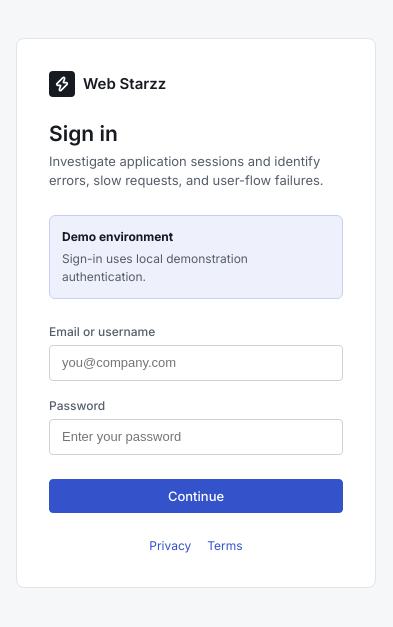
Test: Login › validates fields and associates messages with controls
Expected: the heading "Sign in" is shown, x1=49 y1=121 x2=118 y2=146
What coordinates should you click on to do the following:
click the button "Continue"
I would click on:
 (196, 496)
Its box is x1=49 y1=479 x2=343 y2=513.
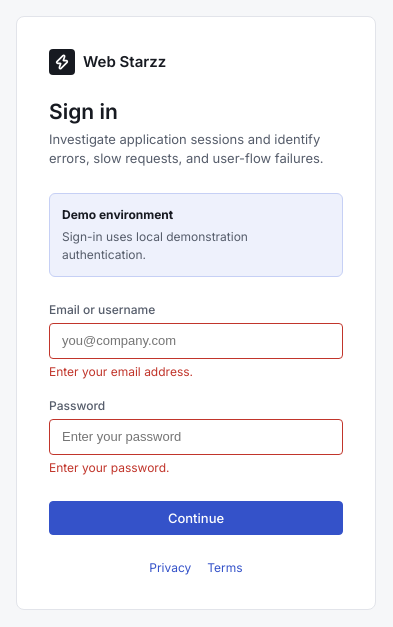
Expected: the text "Enter your email address." is shown, x1=49 y1=364 x2=193 y2=379
Expected: the text "Enter your password." is shown, x1=49 y1=460 x2=170 y2=475
